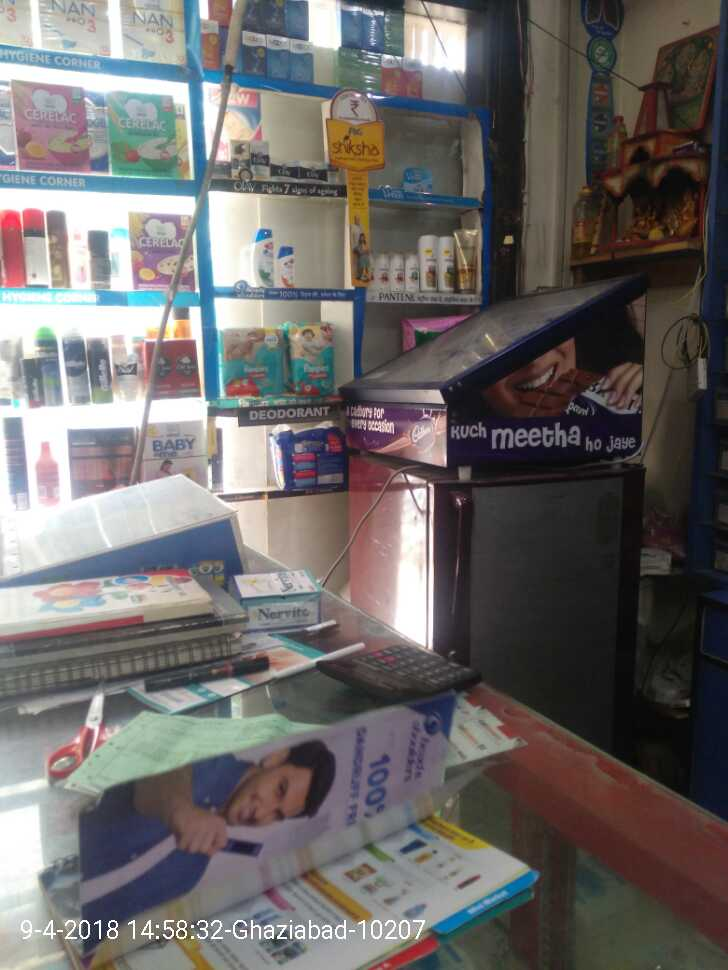gillete: (87, 336, 113, 403), (22, 359, 46, 408)
venus: (403, 167, 431, 193)
